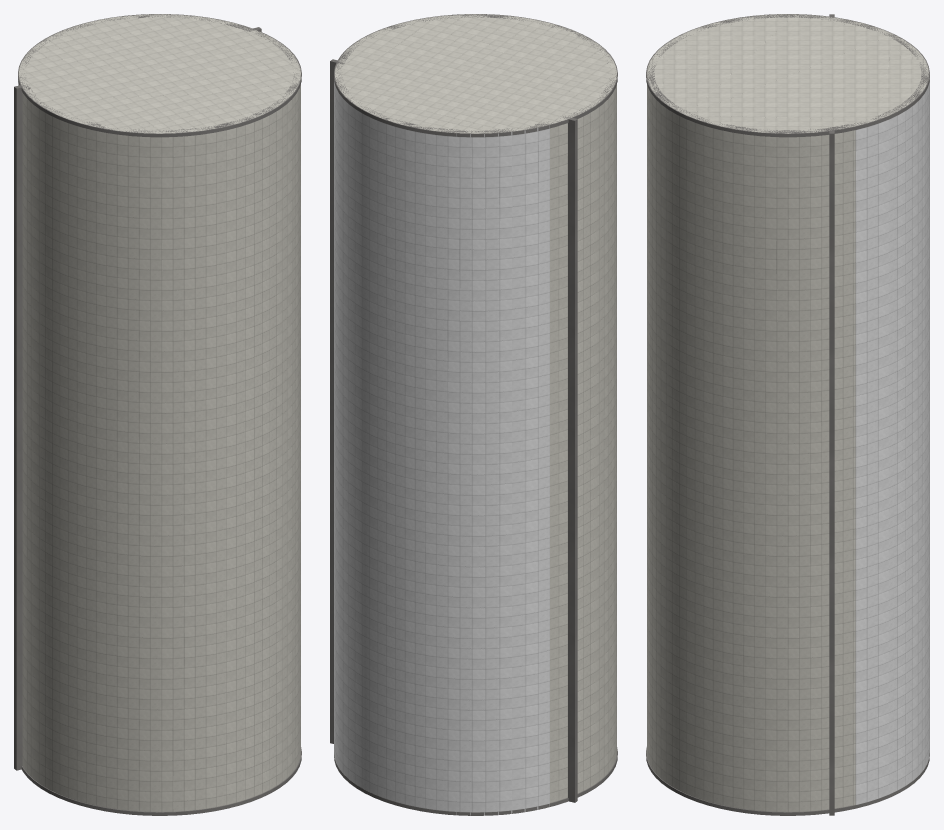
Rendered from aero02_mk3_fuselage_tank_1000.glb.
3 views of the same model, side by side, from view 1: azimuth 30°, elevation 25°; view 2: azimuth 150°, elevation 25°; view 3: azimuth 270°, elevation 25° (orthographic).
Visible parts, largest first — view 1: fuselage, chines, end_frames; view 2: belly_tiles, fuselage, chines, end_frames; view 3: fuselage, belly_tiles, end_frames, chines.
Boxes of the visible parts, x1,y1,x2,y2 form: fuselage: (19,14,300,812); chines: (14,27,261,770); end_frames: (18,14,301,815); belly_tiles: (334,80,549,815); fuselage: (335,14,616,802); chines: (330,59,577,802); end_frames: (334,14,617,815); fuselage: (647,14,928,812); belly_tiles: (855,78,929,804); end_frames: (646,14,929,815); chines: (829,14,834,815).
Bounding box in the file's own units: 3.77 × 10 × 3.77.
Materials: 3 (3 with a texture image).
